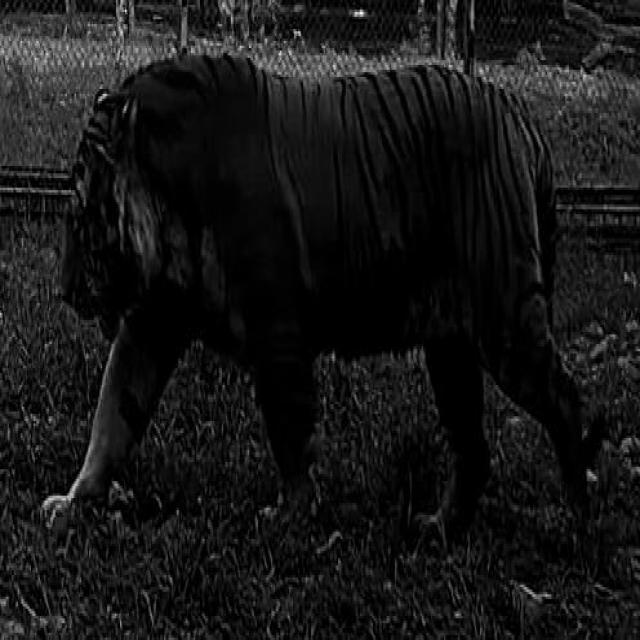TIGER: (51, 41, 602, 573)
